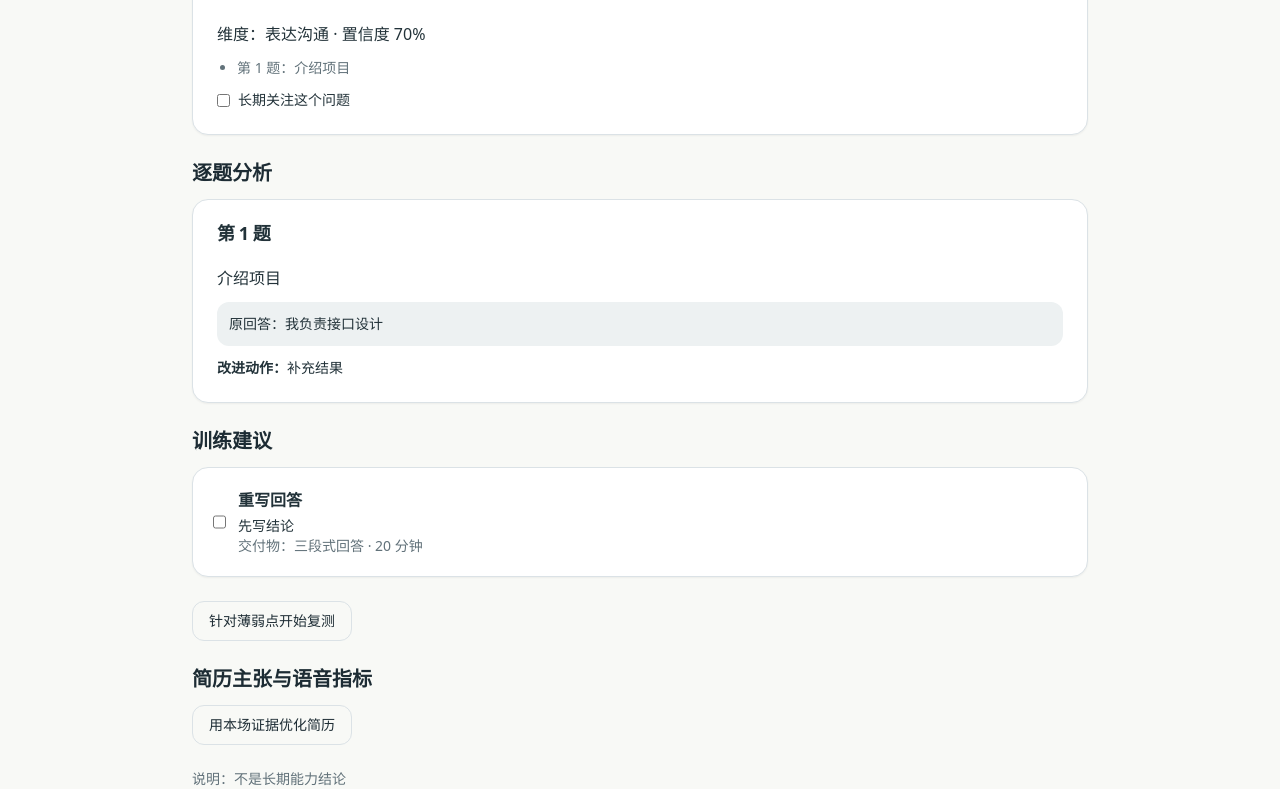
Test: InterviewReportPage › restores the evidence report from the resource API
(page scrolled)
Expected: the list item "第 1 题：介绍项目" is shown, [237,58,350,77]
Expected: the text "重写回答" is shown, [238,489,302,511]
Click the checkbox named "选择重写回答". click: (220, 522)
box: [213,488,226,556]
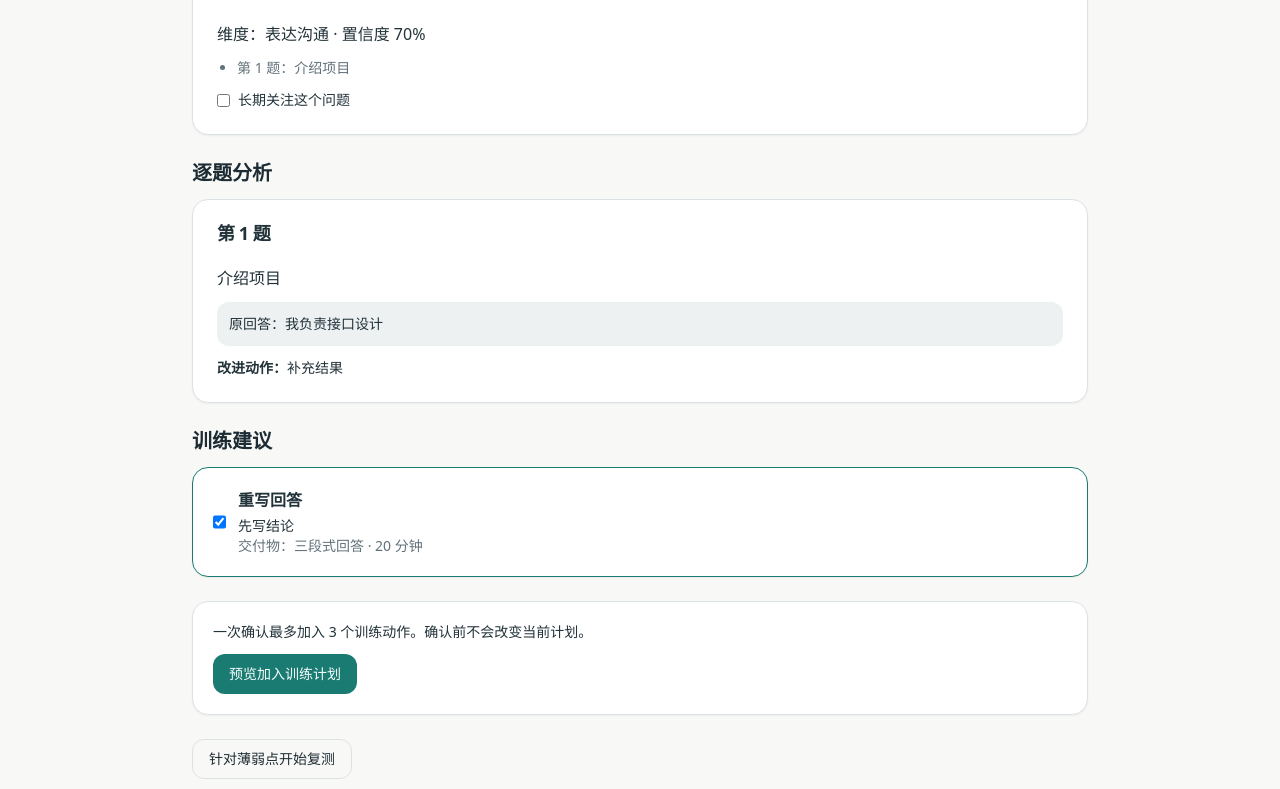
Expected: the button "针对薄弱点开始复测" is shown, [192,739,352,779]
Now the button "预览加入训练计划" is shown, box [213,654,357,694]
